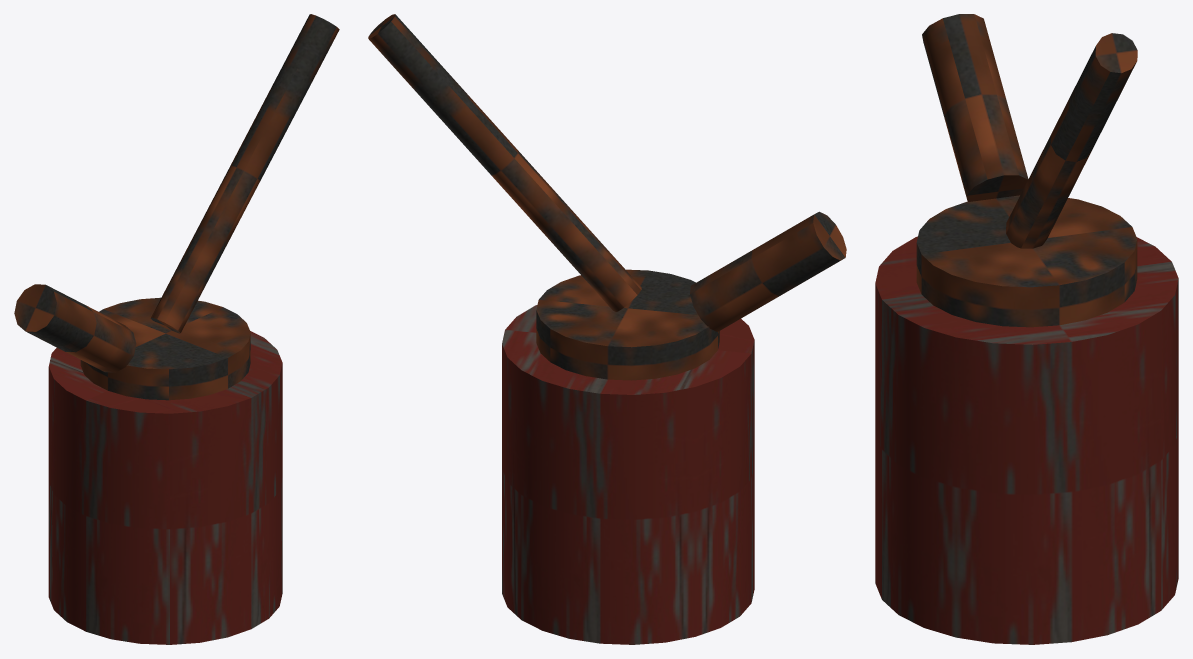
File: SM_MachineOilCan_6039a2b4a4.fbx
3 renders of one model, left to right at view 1: azimuth 30°, elevation 25°; view 2: azimuth 150°, elevation 25°; view 3: azimuth 270°, elevation 25°, orthographic. The views are drawn at different scales.
Visible parts, largest first — view 1: SM_MachineOilCan_6039a2b4a4; view 2: SM_MachineOilCan_6039a2b4a4; view 3: SM_MachineOilCan_6039a2b4a4.
Part boxes in pixels (left/top/right/bottom): SM_MachineOilCan_6039a2b4a4: left=14, top=14, right=339, bottom=644; SM_MachineOilCan_6039a2b4a4: left=368, top=14, right=846, bottom=644; SM_MachineOilCan_6039a2b4a4: left=875, top=14, right=1178, bottom=644.
Size of what is drawn, in the model's own units: 20.47 by 10.99 by 26.54.
2 materials, 2 textured.
